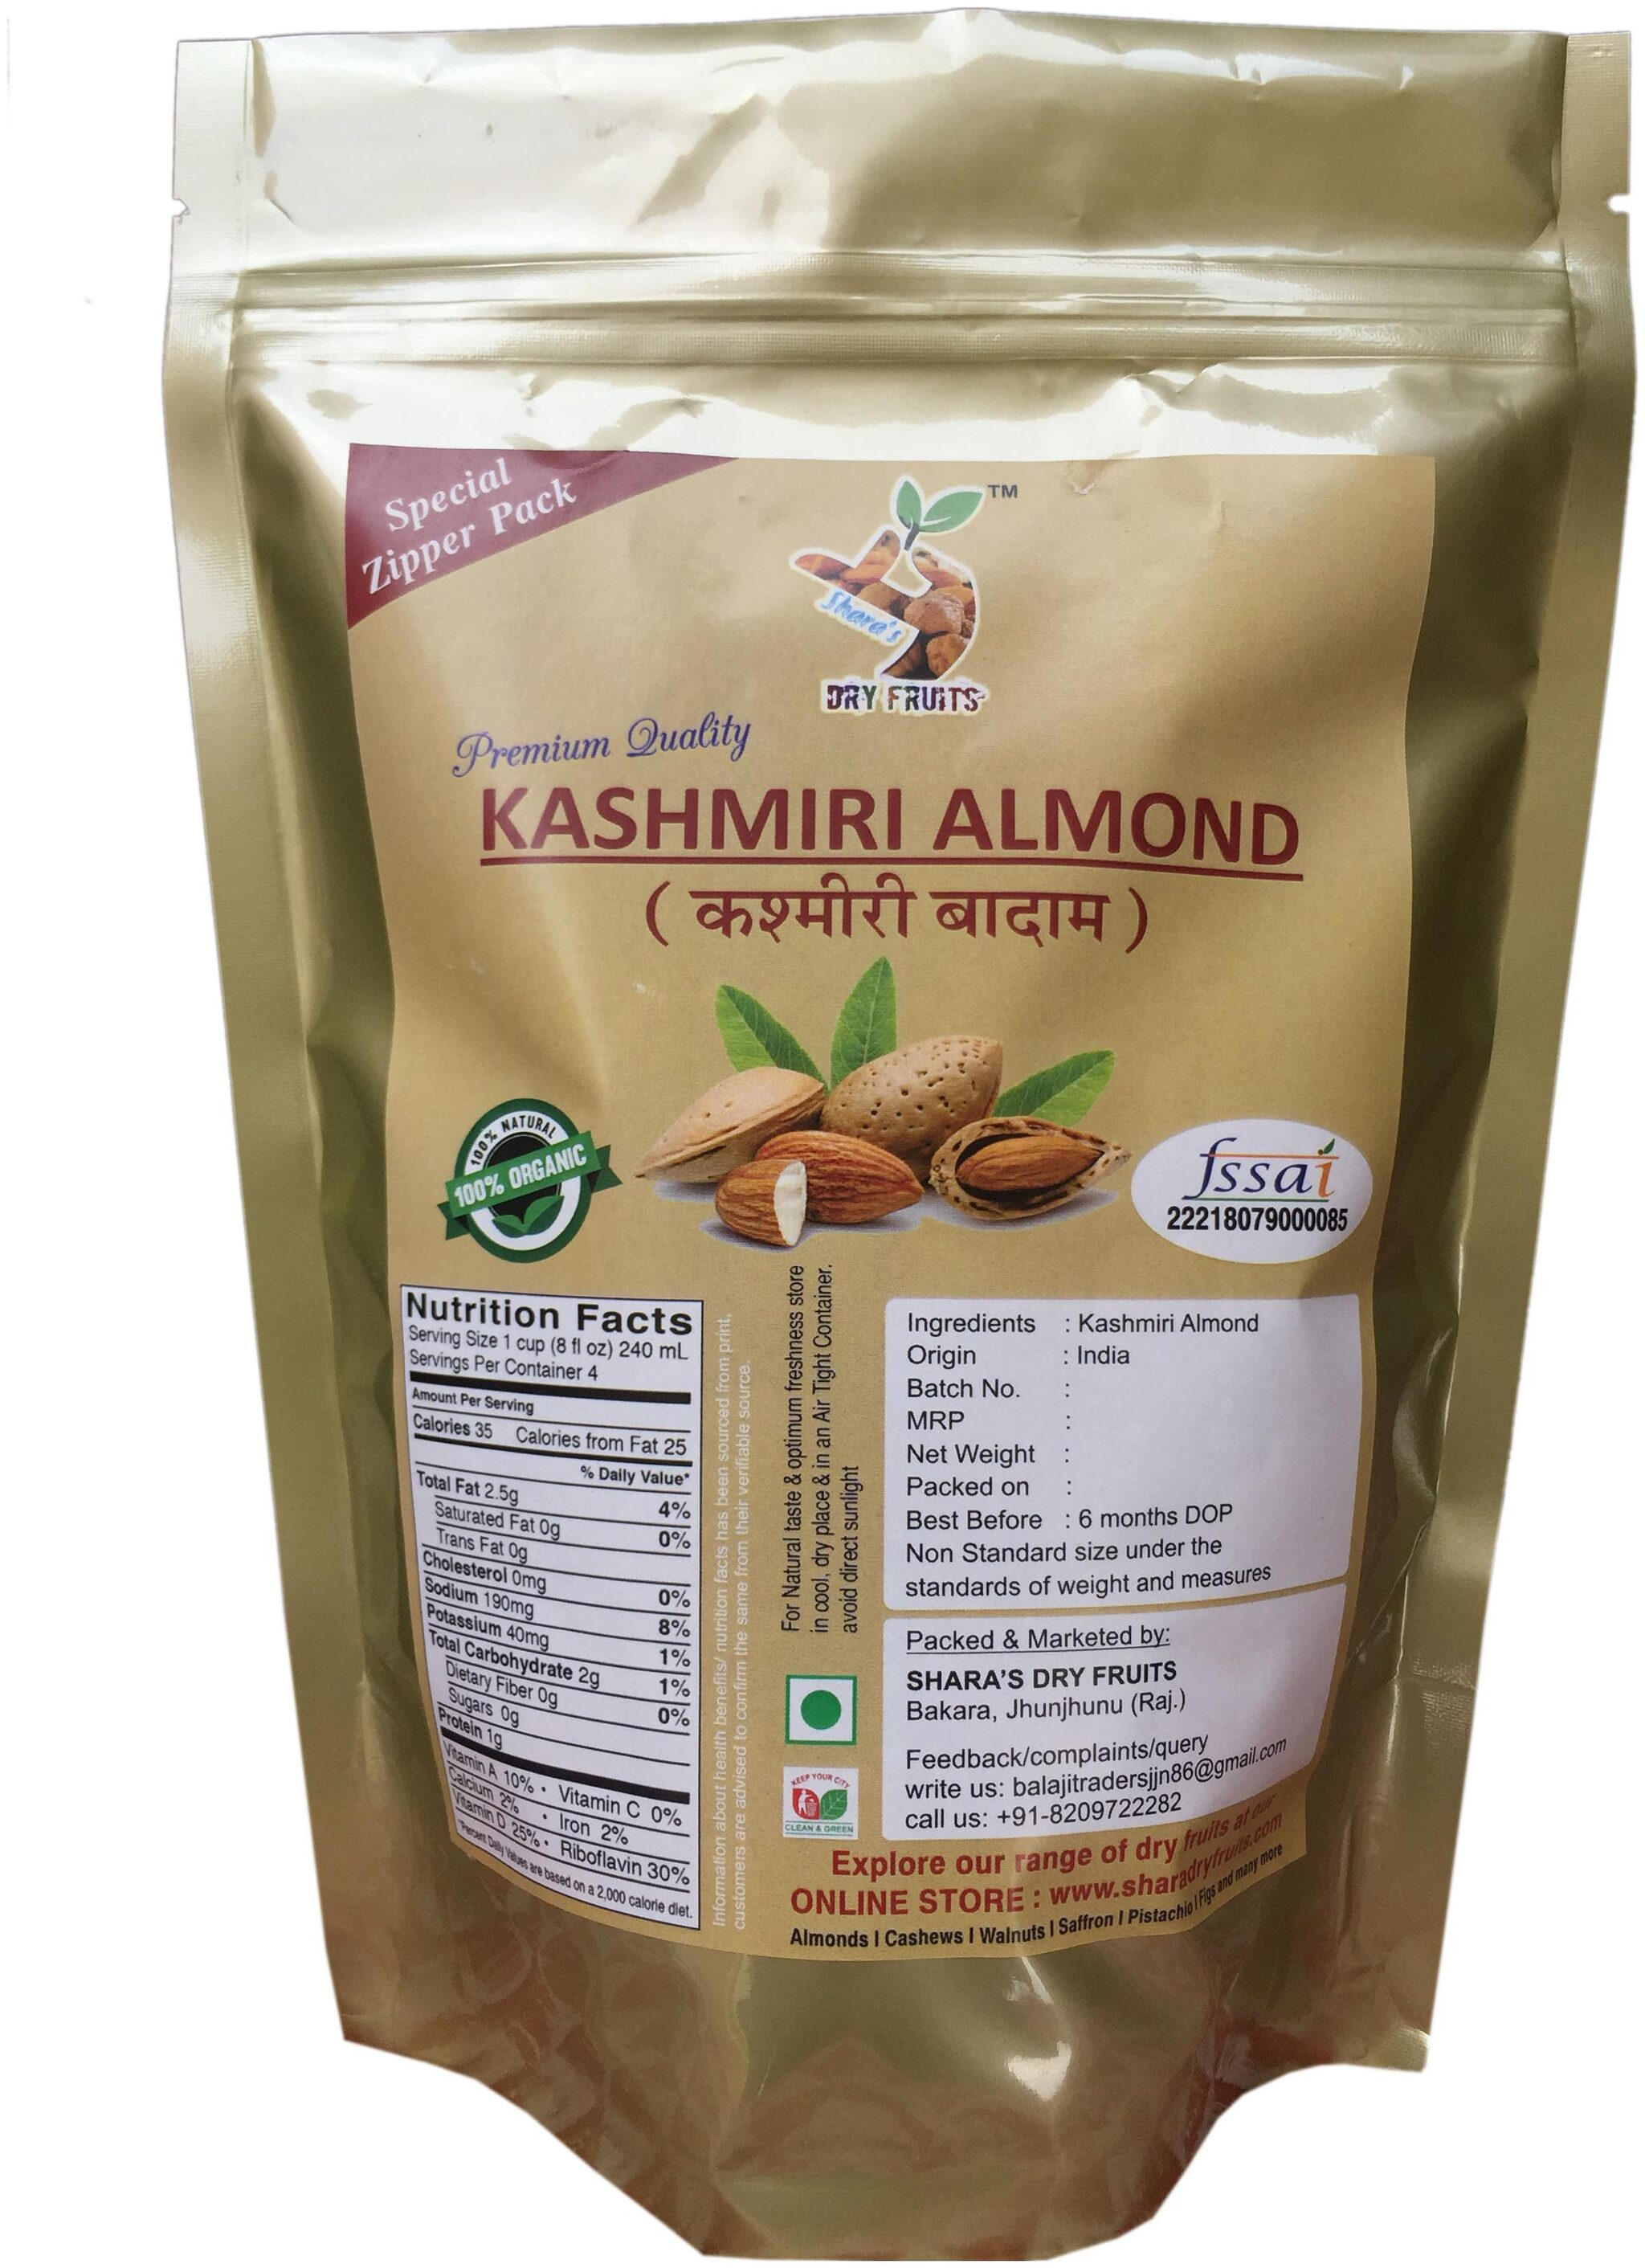fssai: (1180, 1136, 1339, 1201)
